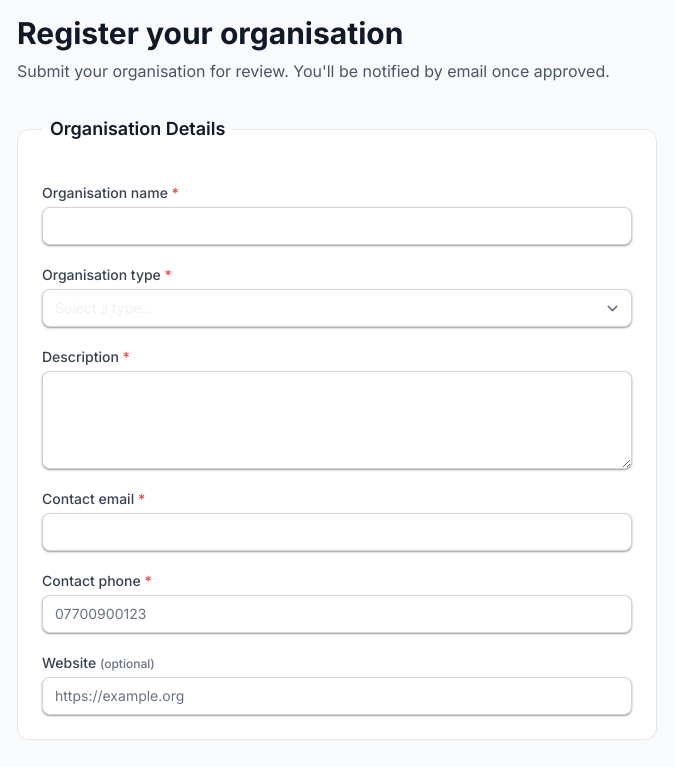
it: <OrgRegisterForm> › shows inline validation error when name < 3 chars on submit attempt
In the field labelled "Organisation name *": (337, 226) [42,207,632,245], type "AB"
(page scrolled)
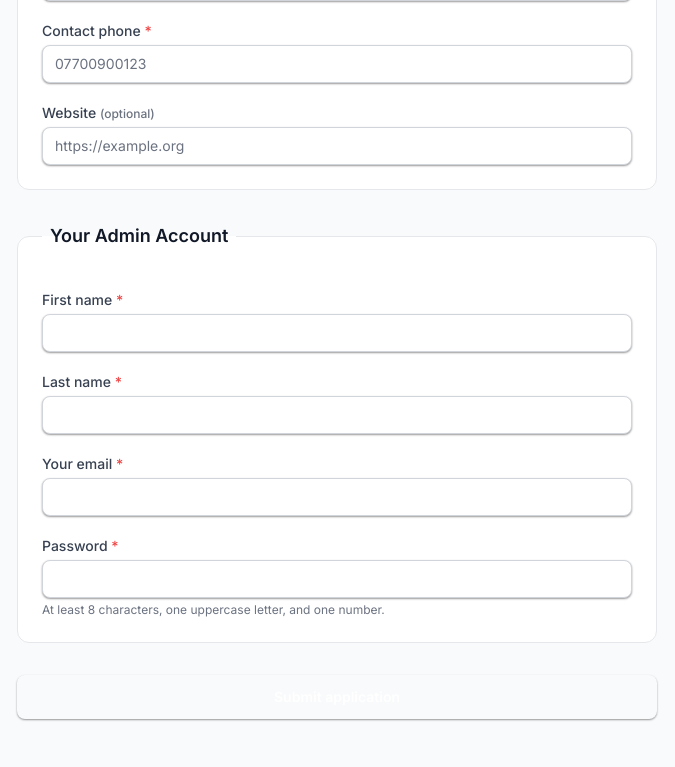
Click the button "Submit application": (337, 697) [17,675,657,719]
(page scrolled)
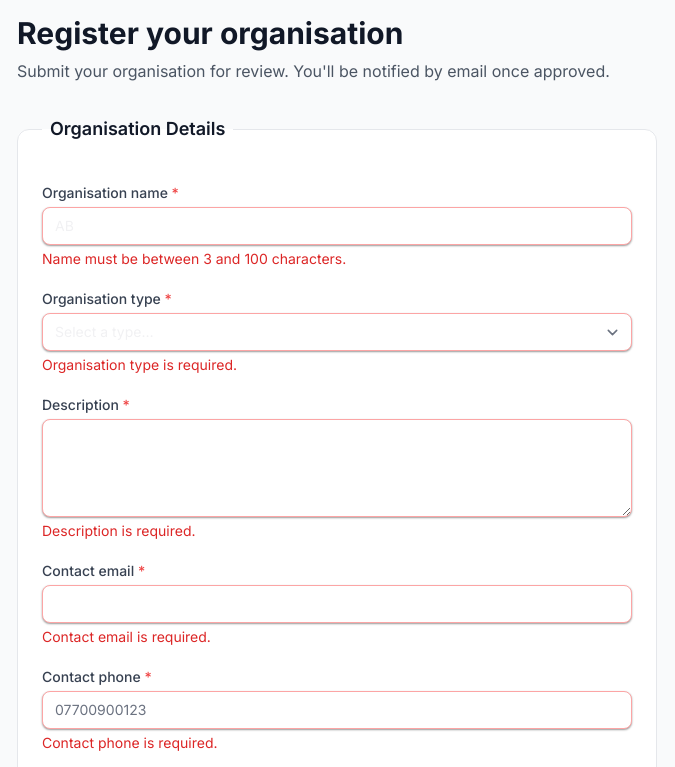
Expected: the text "Name must be between 3 and 100 characters." is shown, [42,250,346,267]
